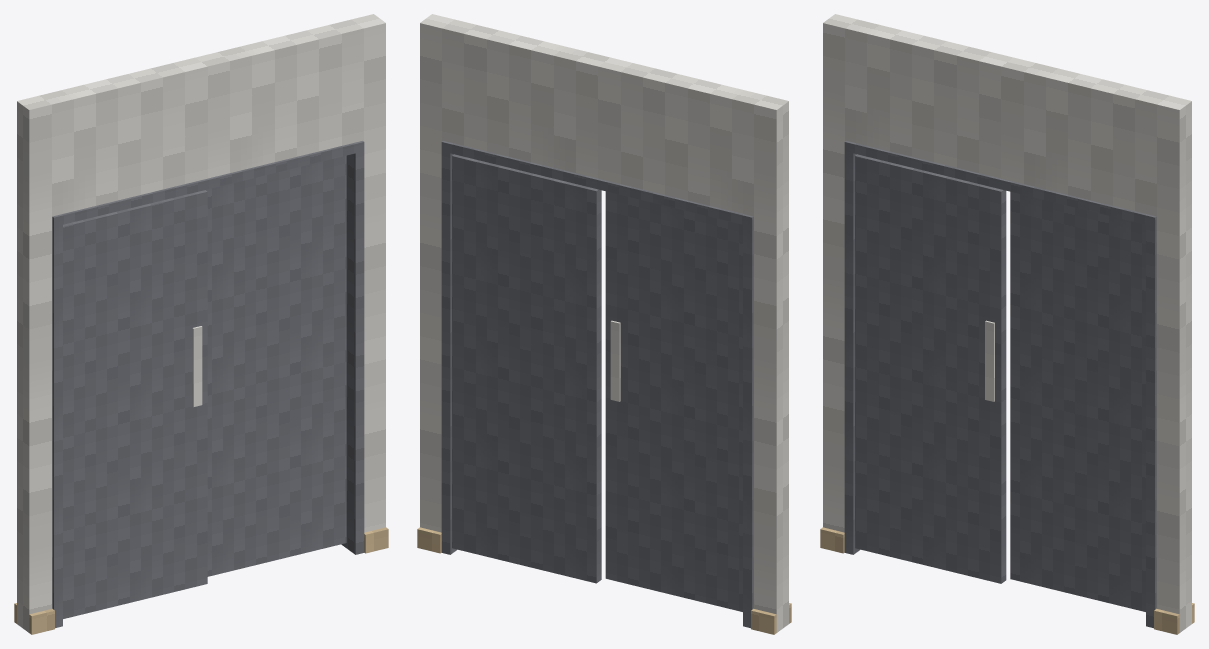
Rendered from pixel-modern-apartments-wall-bay-balcony-slider-73fbc366__29787.glb.
3 views of the same model, side by side, from view 1: azimuth 30°, elevation 25°; view 2: azimuth 150°, elevation 25°; view 3: azimuth 330°, elevation 25° (orthographic).
Visible parts, largest first — view 1: wall-bay-balcony-slider, slider/charcoal, slider/white; view 2: wall-bay-balcony-slider, slider/charcoal, slider/white; view 3: wall-bay-balcony-slider, slider/charcoal, slider/white.
Boxes of the visible parts, x1=… form: wall-bay-balcony-slider: x1=14, y1=14, x2=388, y2=634; slider/charcoal: x1=63, y1=190, x2=207, y2=618; slider/white: x1=192, y1=326, x2=202, y2=407; wall-bay-balcony-slider: x1=417, y1=14, x2=791, y2=634; slider/charcoal: x1=605, y1=191, x2=742, y2=611; slider/white: x1=610, y1=320, x2=620, y2=401; wall-bay-balcony-slider: x1=820, y1=14, x2=1194, y2=634; slider/charcoal: x1=855, y1=154, x2=1006, y2=583; slider/white: x1=985, y1=320, x2=994, y2=401.
Size of the model in its own units: 2 by 2.8 by 0.1699.
4 materials, 4 textured.
